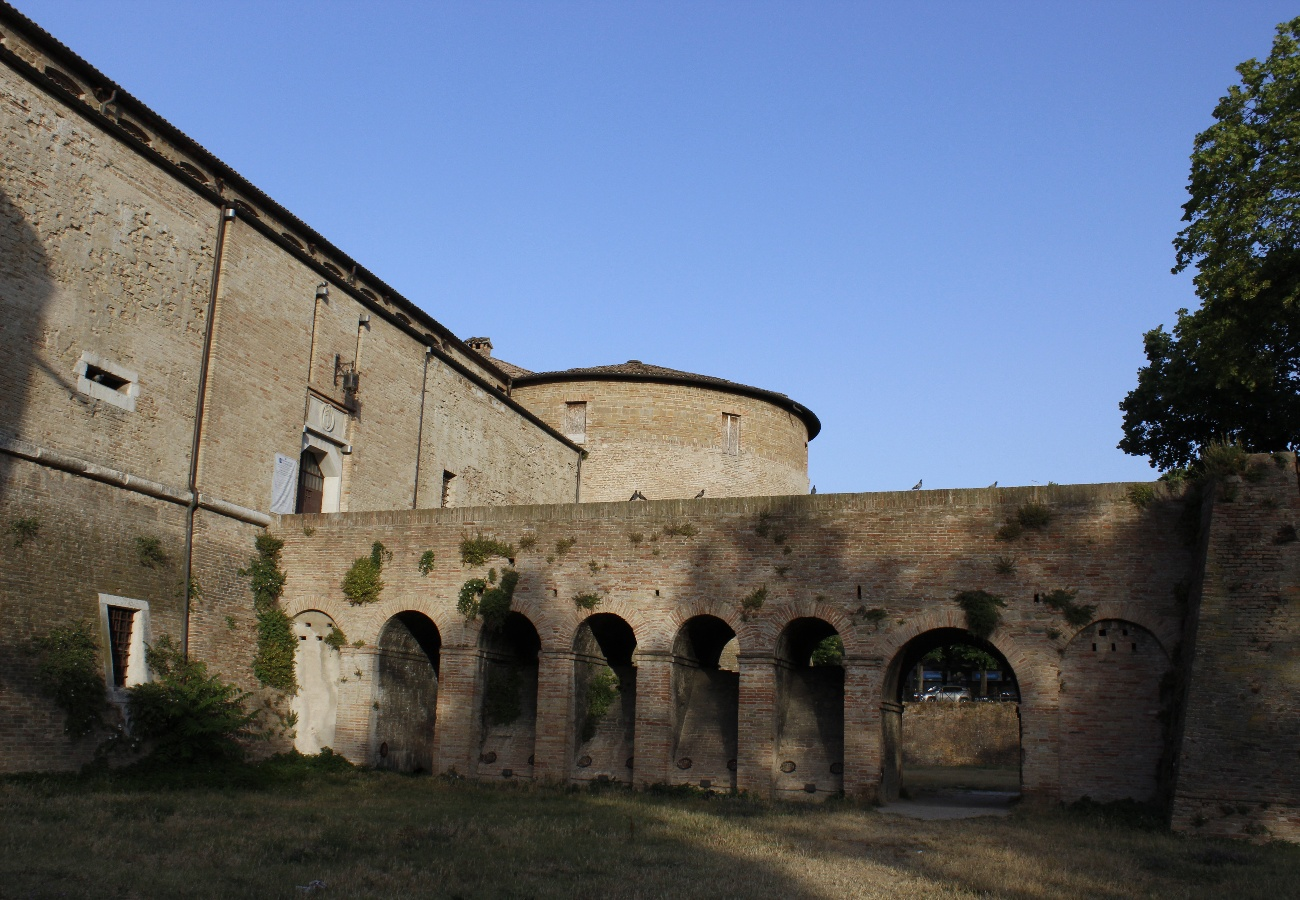Rocca Costanza: (1, 1, 1172, 844)
